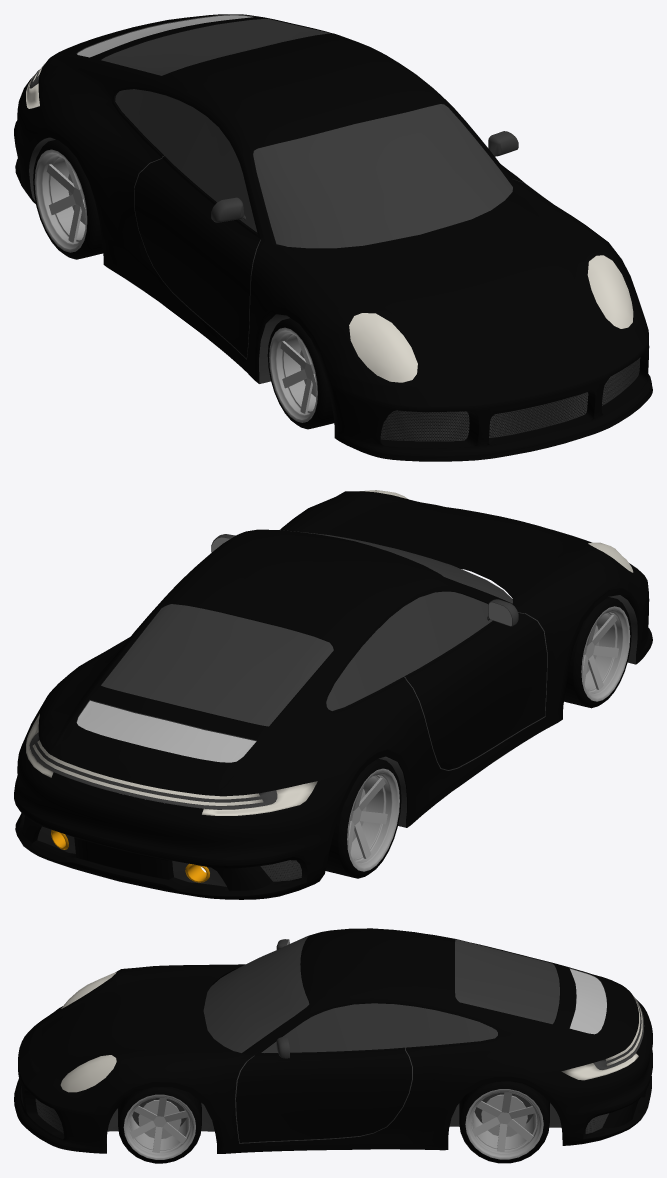
The model's file is Car 4.fbx.
3 views of the same model, one above another, from view 1: azimuth 30°, elevation 25°; view 2: azimuth 150°, elevation 25°; view 3: azimuth 270°, elevation 25° (orthographic). The views are drawn at different scales.
Parts seen in each view (by area): view 1: Body, Rear Right Wheel, Grill, Front light, Front Right Wheel, Side Mirrors; view 2: Body, Rear Right Wheel, Rear light, Front Right Wheel, Exhaust, Side Mirrors, Grill; view 3: Body, Rear Left Wheel, Front Left Wheel, Front light, Rear light, Grill, Side Mirrors.
Part boxes in pixels (box(x1,y1,x2,y2)): Body: box(14, 14, 652, 461); Rear Right Wheel: box(33, 139, 102, 259); Grill: box(380, 357, 640, 441); Front light: box(349, 255, 633, 382); Front Right Wheel: box(267, 318, 334, 429); Side Mirrors: box(211, 131, 518, 222); Body: box(14, 491, 652, 899); Rear Right Wheel: box(325, 758, 401, 878); Rear light: box(26, 714, 317, 815); Front Right Wheel: box(564, 597, 631, 708); Exhaust: box(37, 826, 226, 886); Side Mirrors: box(211, 534, 518, 626); Grill: box(260, 860, 301, 881); Body: box(14, 928, 652, 1153); Rear Left Wheel: box(459, 1081, 549, 1163); Front Left Wheel: box(118, 1087, 201, 1163); Front light: box(60, 972, 116, 1092); Rear light: box(561, 995, 644, 1080); Grill: box(35, 1098, 608, 1133); Side Mirrors: box(276, 939, 289, 1058).
Size of the model in its own units: 211 by 133 by 504.
Materials: 9 (6 with a texture image).
